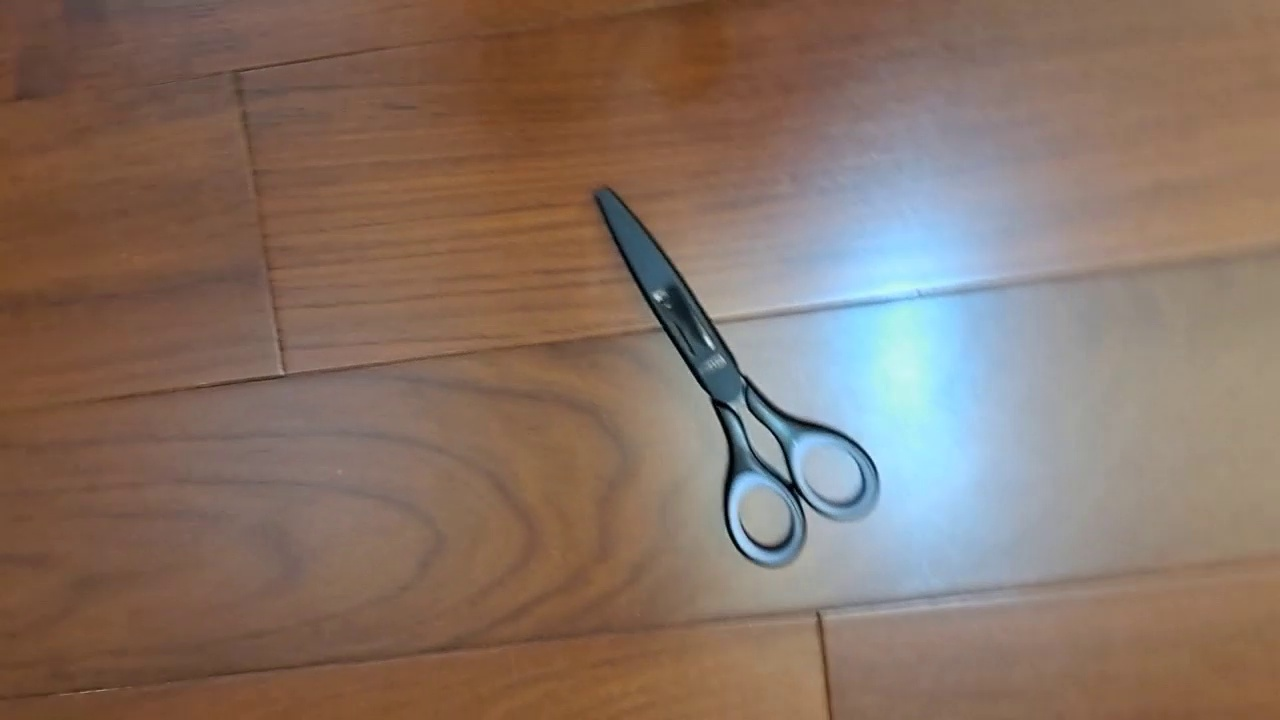scissors: (591, 180, 880, 570)
